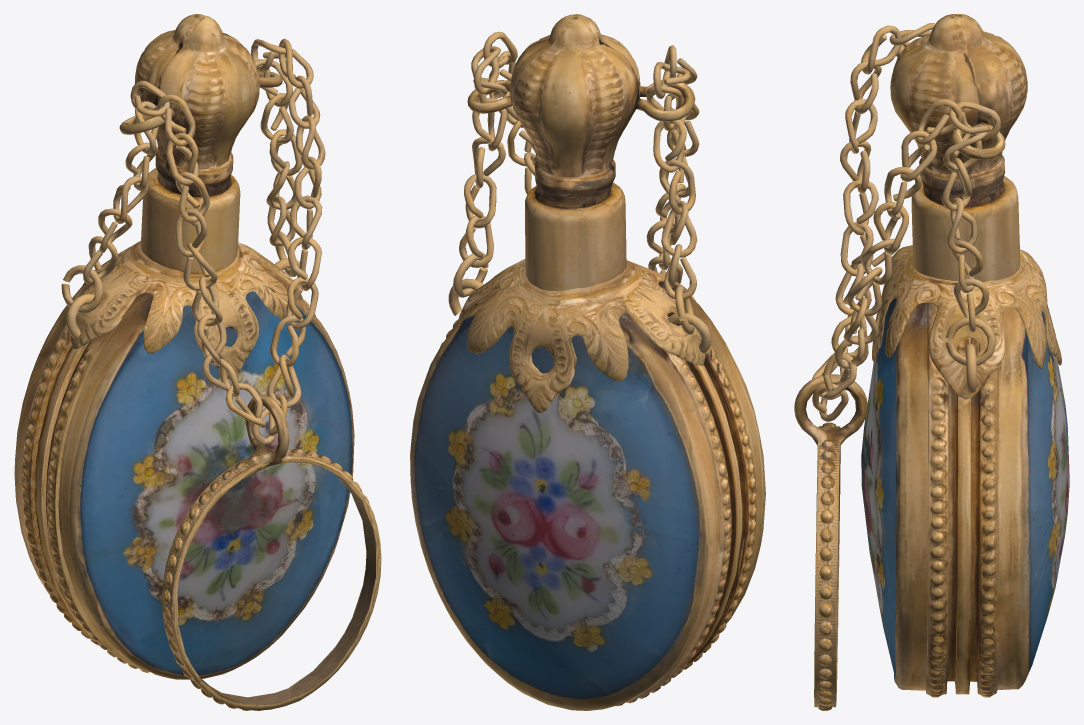
The model's file is heirloom-locket.glb.
3 views of the same model, side by side, from view 1: azimuth 30°, elevation 25°; view 2: azimuth 150°, elevation 25°; view 3: azimuth 270°, elevation 25° (orthographic). The views are drawn at different scales.
Parts seen in each view (by area): view 1: Object_2, Object_5, Object_3, Object_4, Object_7; view 2: Object_2, Object_3, Object_4, Object_5; view 3: Object_2, Object_3, Object_5, Object_4, Object_7.
Part boxes in pixels (x1,y1,x2,y2): Object_2: (14, 268, 354, 679); Object_5: (61, 38, 325, 444); Object_3: (119, 14, 282, 274); Object_4: (71, 241, 302, 379); Object_7: (162, 394, 381, 710); Object_2: (410, 282, 765, 710); Object_3: (467, 14, 695, 291); Object_4: (459, 259, 705, 413); Object_5: (448, 31, 711, 352); Object_2: (861, 298, 1069, 697); Object_3: (890, 14, 1027, 281); Object_5: (812, 23, 1000, 421); Object_4: (872, 245, 1061, 399); Object_7: (794, 374, 867, 710).
Size of the model in its own units: 30.4 by 63.32 by 23.3.
Materials: 5 (5 with a texture image).
